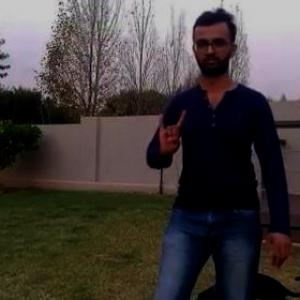takeoff-hand: (153, 104, 193, 164)
